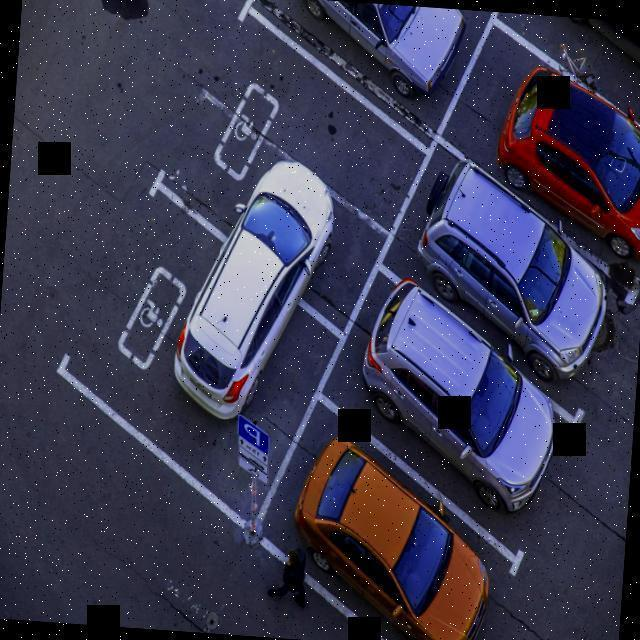space-occupied: (192, 54, 399, 295), (408, 170, 606, 411), (111, 223, 312, 460), (352, 281, 538, 498), (295, 451, 483, 632), (468, 53, 640, 239), (270, 0, 465, 109)
